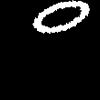chain: (33, 1, 88, 32)
